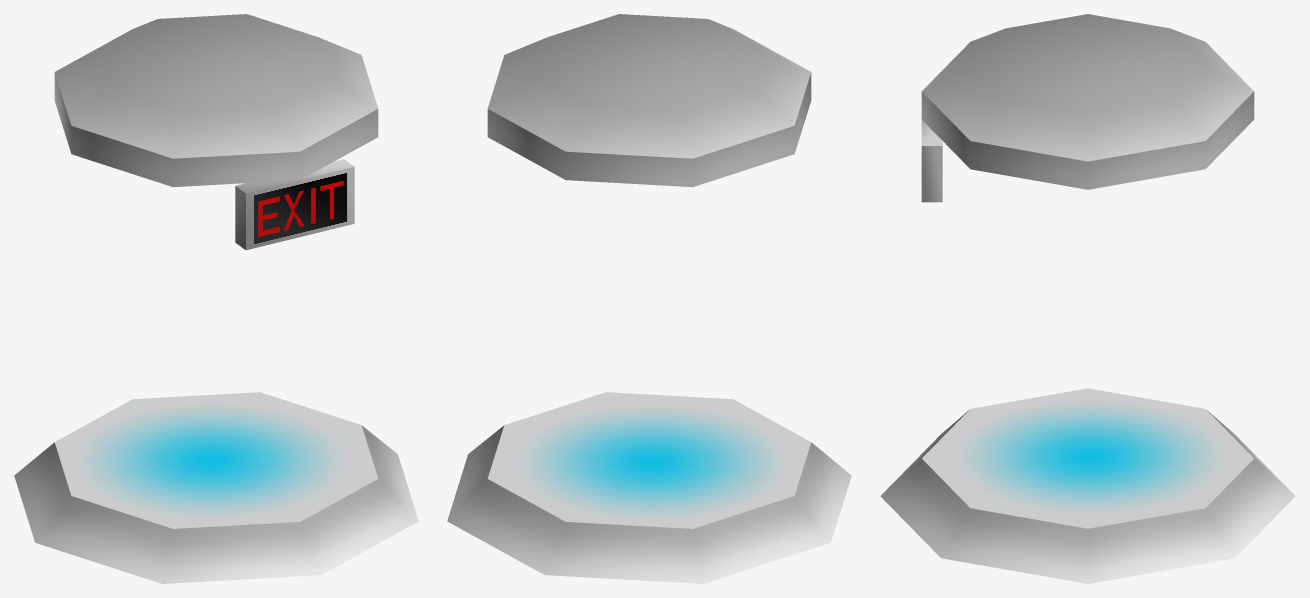
Rendered from exit1.dae.
3 renders of one model, left to right at view 1: azimuth 30°, elevation 25°; view 2: azimuth 150°, elevation 25°; view 3: azimuth 270°, elevation 25°, orthographic.
Visible parts, largest first — view 1: Cylinder; view 2: Cylinder; view 3: Cylinder.
Boxes of the visible parts, <box> form: Cylinder: <box>14,14,418,583</box>; Cylinder: <box>447,14,851,583</box>; Cylinder: <box>880,14,1295,583</box>.
Size of the model in its own units: 8.58 by 8.58 by 9.87.
Materials: 1 (1 with a texture image).
